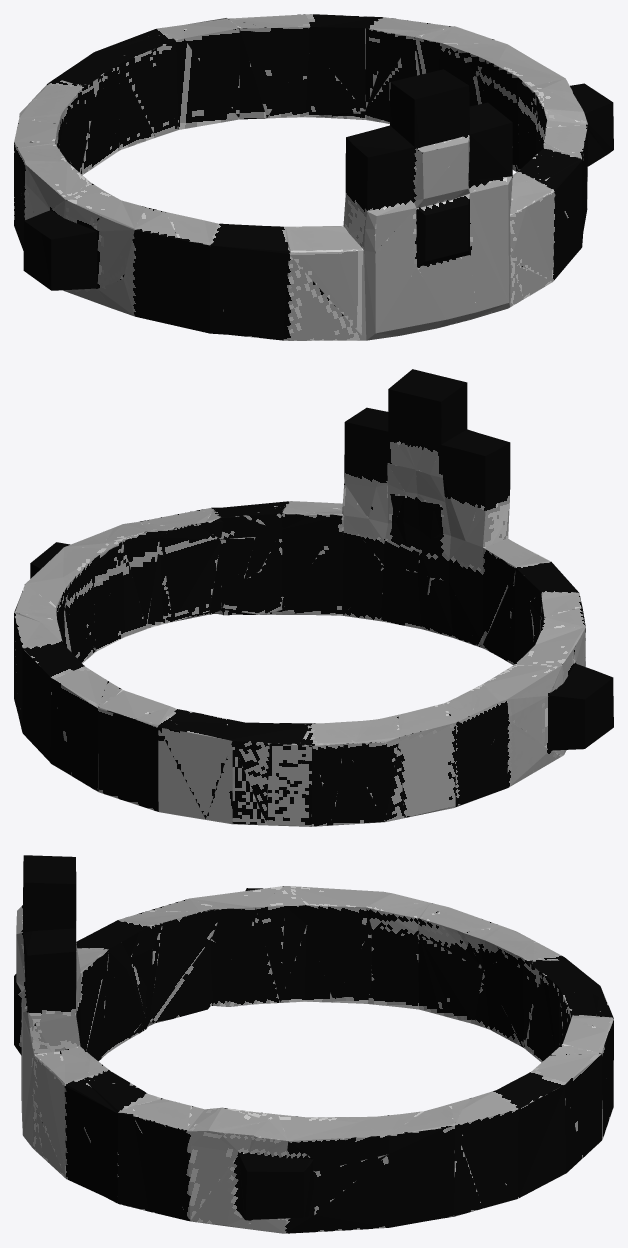
3 views of the same model, one above another, from view 1: azimuth 30°, elevation 25°; view 2: azimuth 150°, elevation 25°; view 3: azimuth 270°, elevation 25° (orthographic). The views are drawn at different scales.
Visible parts, largest first — view 1: OBJ031; view 2: OBJ031; view 3: OBJ031.
Part boxes in pixels (bbox=[...]): OBJ031: bbox=[14, 14, 613, 340]; OBJ031: bbox=[14, 369, 613, 826]; OBJ031: bbox=[14, 855, 613, 1233].
Bounding box in the file's own units: 0.2544 × 0.1038 × 0.2276.
Materials: 1 (1 with a texture image).
